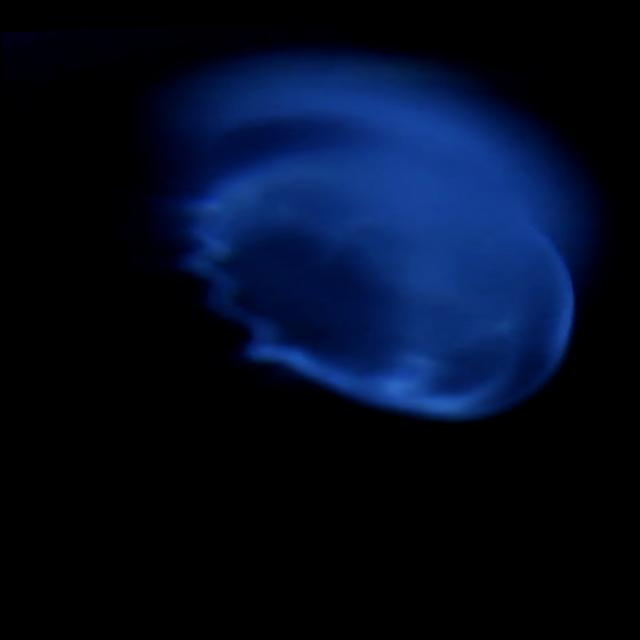Moon-jellyfish: (82, 34, 638, 422)
